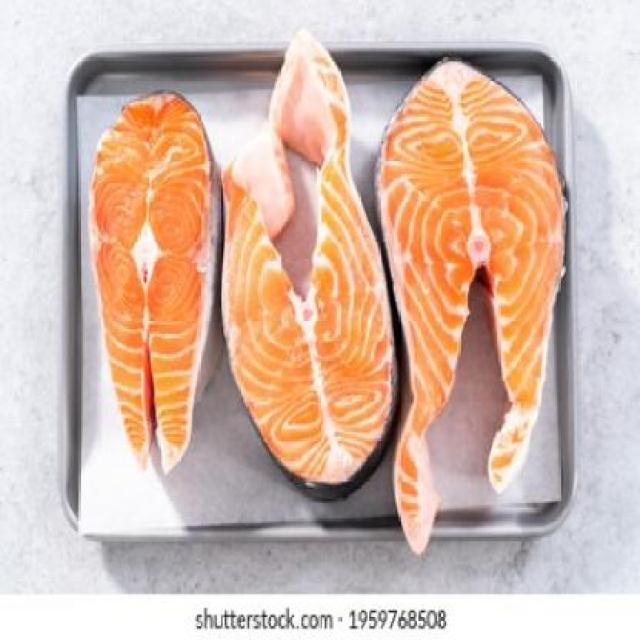salmon: (363, 33, 572, 554), (220, 13, 401, 514), (82, 83, 225, 472)
